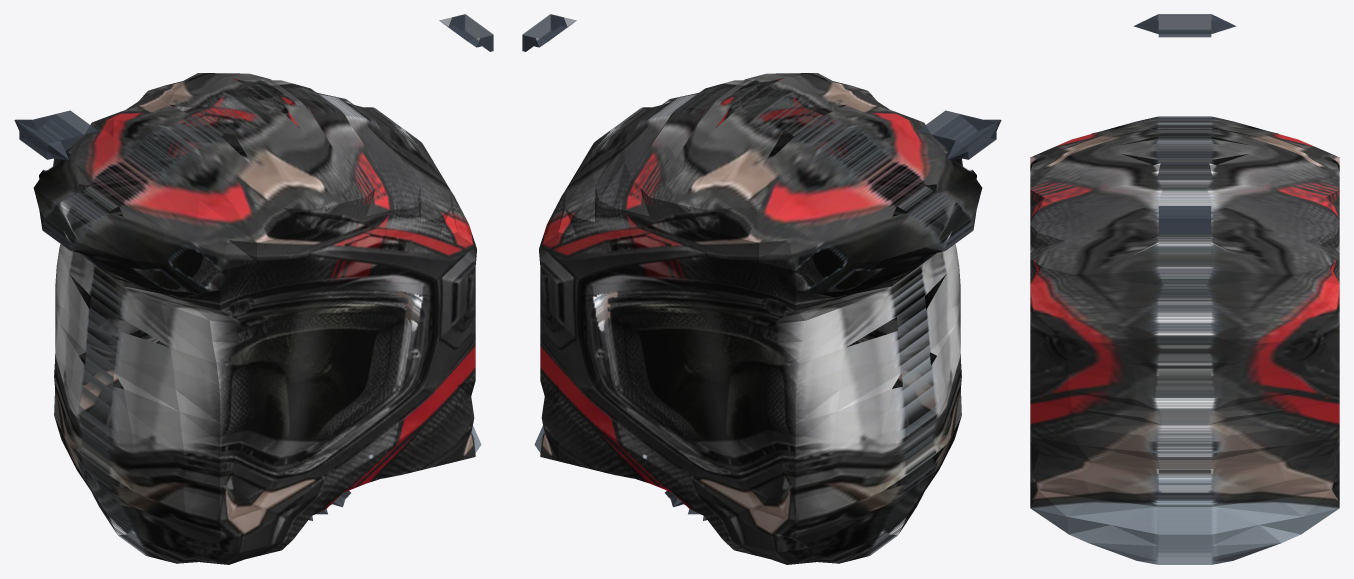
The model's file is sena-horizon-adventure-helmet-066.glb.
The picture shows the model from 3 angles, left to right: view 1: azimuth 30°, elevation 25°; view 2: azimuth 150°, elevation 25°; view 3: azimuth 270°, elevation 25°; orthographic projection. The views are drawn at different scales.
Visible parts, largest first — view 1: world; view 2: world; view 3: world.
Boxes of the visible parts, box(x1,y1,x2,y2) form: world: box(14, 14, 493, 564); world: box(522, 14, 1001, 564); world: box(1030, 14, 1339, 564).
Size of the model in its own units: 1 by 0.9401 by 0.64.
1 material, 1 textured.
